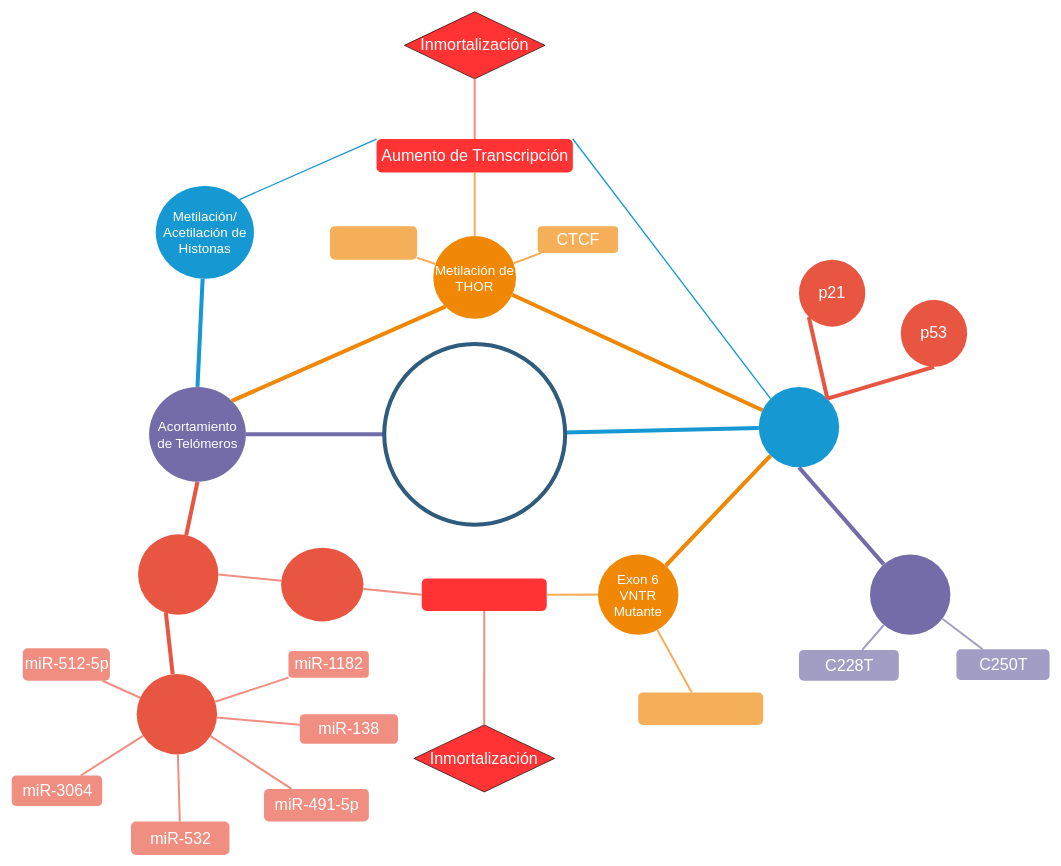
Image size: 1061x866. Some labels were removed from this diagram. The box of each missing label's shape, as (x1, y1, x2, y2) in pixels:
Envejecimiento: (382, 342, 567, 526)
Exon 7-8 Skiping: (638, 692, 763, 725)
hTERT Completo: (421, 578, 546, 611)
hTERTpMut: (870, 554, 950, 634)
miRNA: (136, 674, 217, 754)
Mutaciones somáticas: (758, 387, 839, 467)
Saturación Spliceosoma: (281, 547, 363, 621)
TPE: (138, 534, 218, 614)
WT1: (330, 226, 417, 259)
